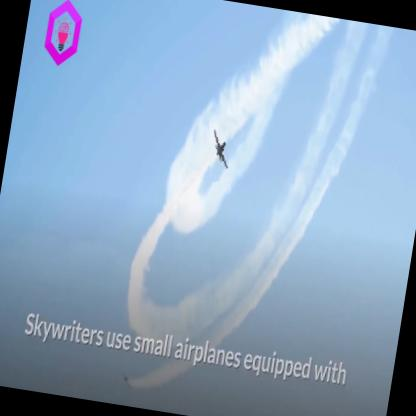plane: (202, 113, 240, 184)
